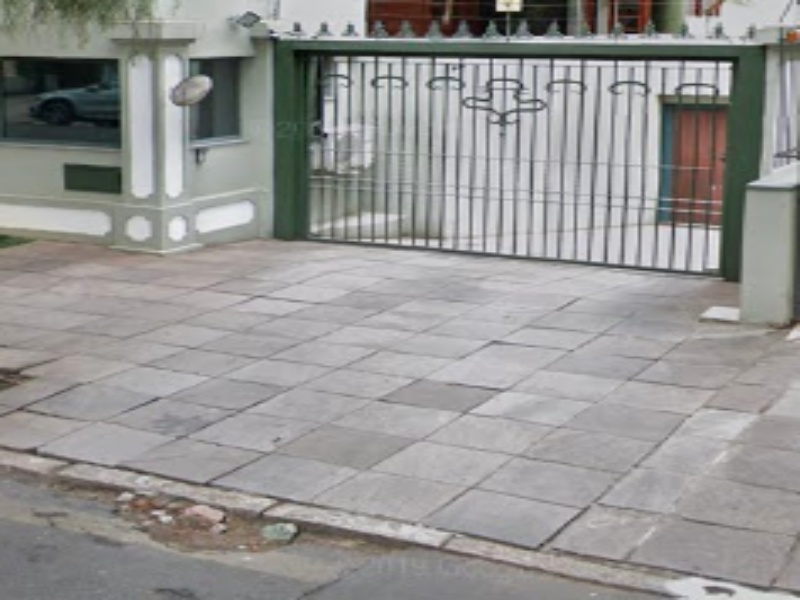g62: (5, 393, 650, 600)
